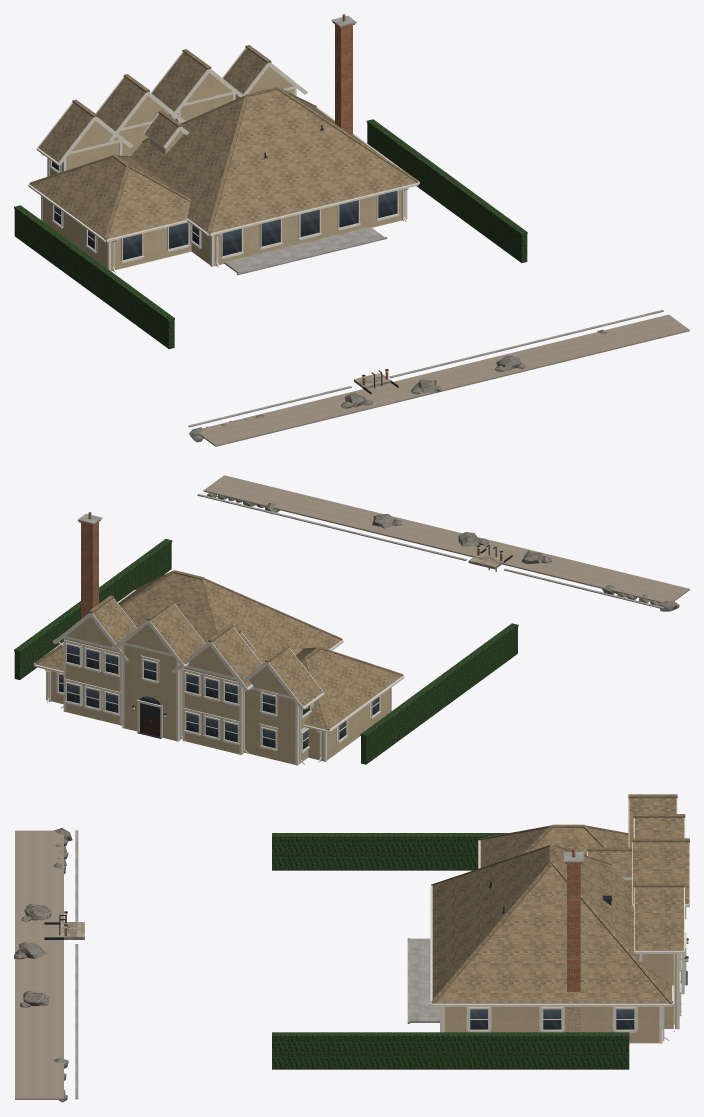
The model's file is lot-8235.fbx.
The picture shows the model from 3 angles, top to bottom: view 1: azimuth 30°, elevation 25°; view 2: azimuth 150°, elevation 25°; view 3: azimuth 270°, elevation 25°; orthographic projection. The views are drawn at different scales.
Parts seen in each view (by area): view 1: lot-8235_LOD0; view 2: lot-8235_LOD0; view 3: lot-8235_LOD0.
Boxes of the visible parts, x1=… form: lot-8235_LOD0: x1=14, y1=14, x2=689, y2=446; lot-8235_LOD0: x1=14, y1=475, x2=689, y2=765; lot-8235_LOD0: x1=14, y1=794, x2=689, y2=1102.
Size of what is drawn, in the model's own units: 39.51 by 13.84 by 41.59.
2 materials, 2 textured.
